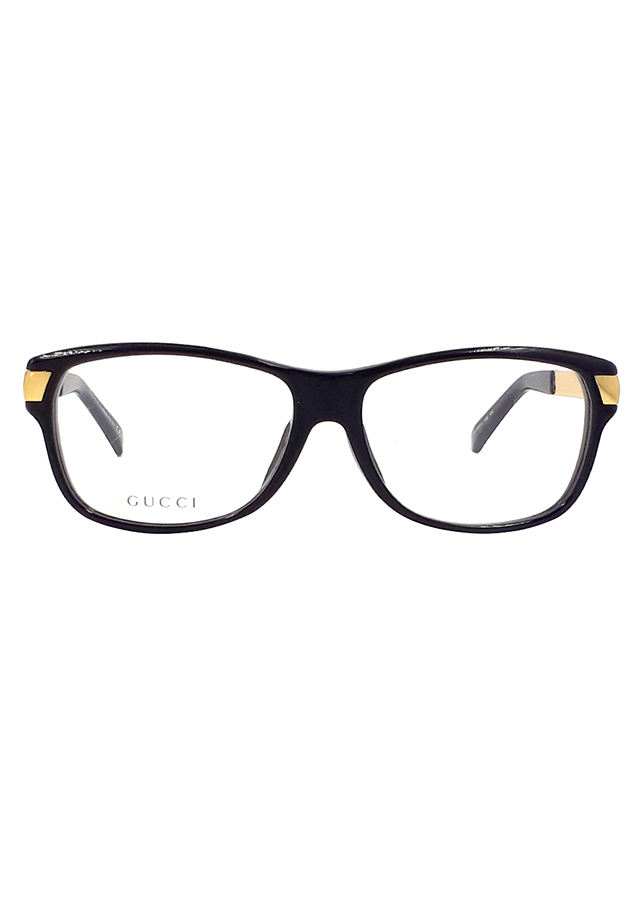Gucci: (119, 485, 202, 515)
